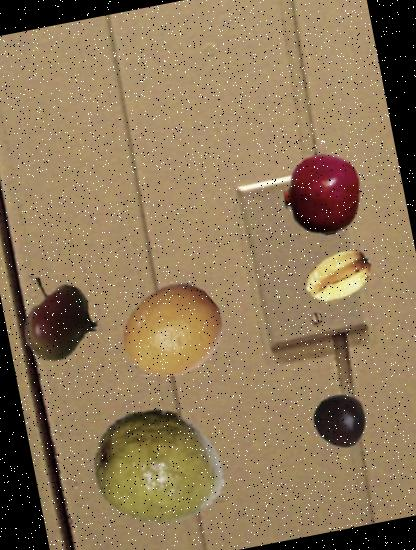Apple: (8, 272, 105, 369)
Carambula: (298, 235, 378, 316)
Chestnut: (310, 388, 374, 452)
Guava: (81, 388, 238, 544)
Lemon: (110, 271, 233, 394)
Pomegranate: (274, 146, 370, 242)
